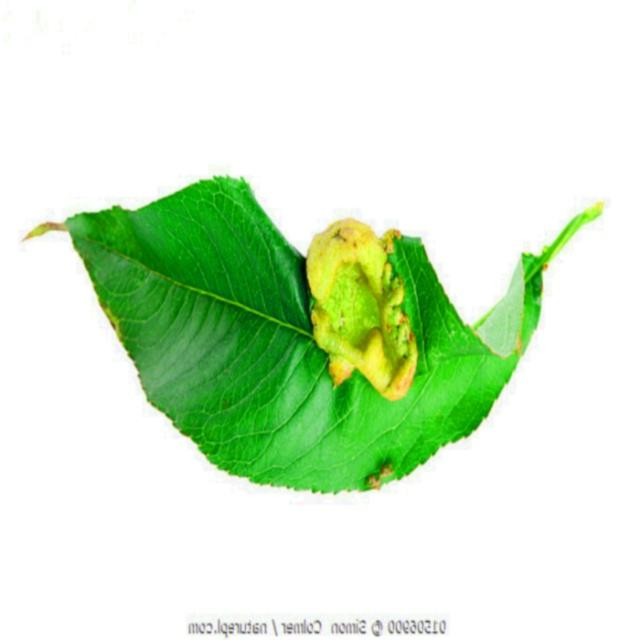leaf_curl: (215, 156, 535, 519)
